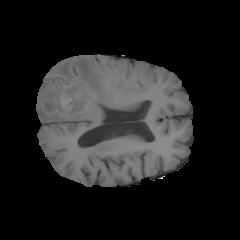glioma: (37, 57, 108, 121)
